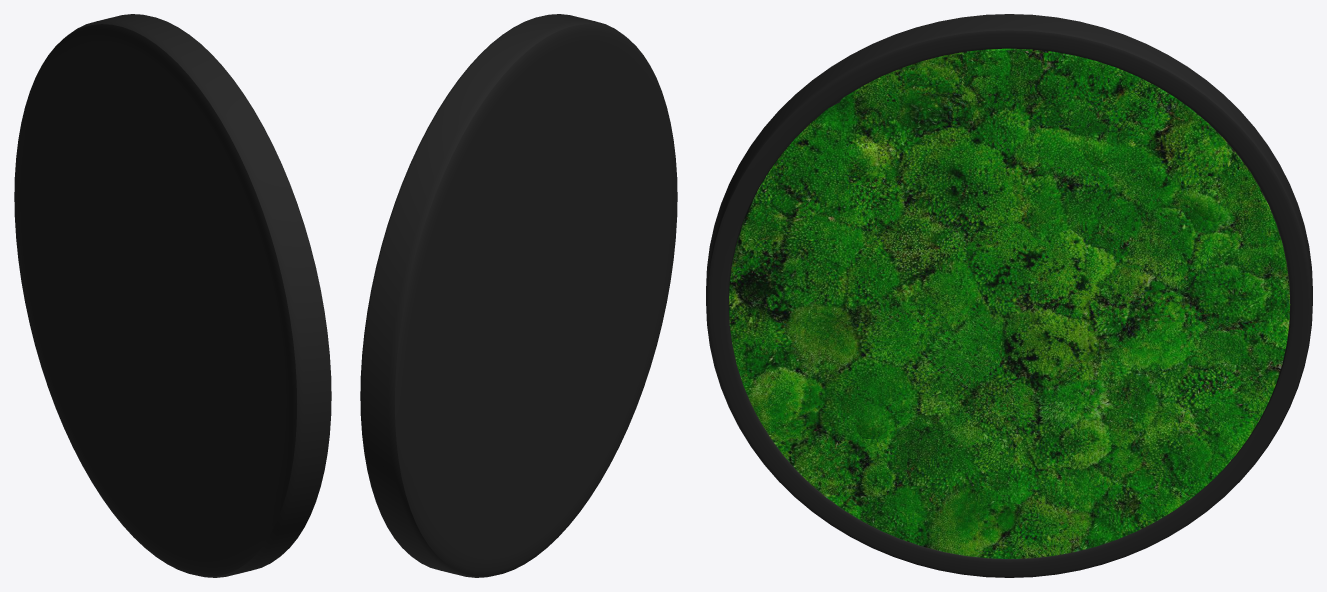
Rendered from Moosbild_Hugelmoos_rund_600mm_black_20yarıcap.fbx.
The picture shows the model from 3 angles, left to right: view 1: azimuth 30°, elevation 25°; view 2: azimuth 150°, elevation 25°; view 3: azimuth 270°, elevation 25°; orthographic projection. The views are drawn at different scales.
Parts seen in each view (by area): view 1: edge; view 2: edge; view 3: moss_low, edge, moss16.
Part boxes in pixels (x1,y1,x2,y2): edge: [14, 14, 331, 577]; edge: [360, 14, 677, 577]; moss_low: [728, 50, 1290, 558]; edge: [706, 14, 1312, 577]; moss16: [729, 48, 1289, 438].
Size of the model in its own units: 3.28 by 40 by 40.
Materials: 2 (1 with a texture image).
